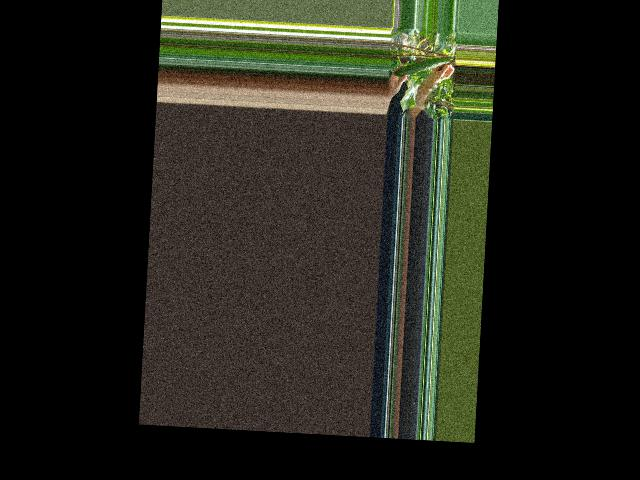cucumber: (393, 55, 449, 79)
